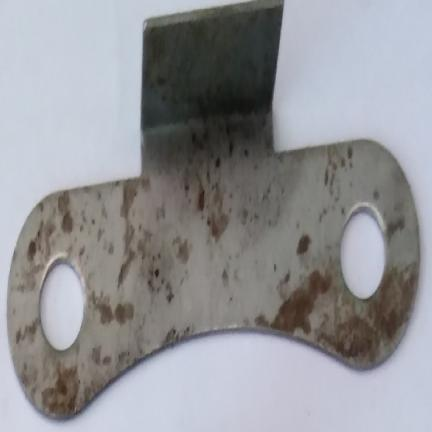besi_tidak_karat: (141, 0, 283, 135)
karat: (7, 0, 420, 417)
